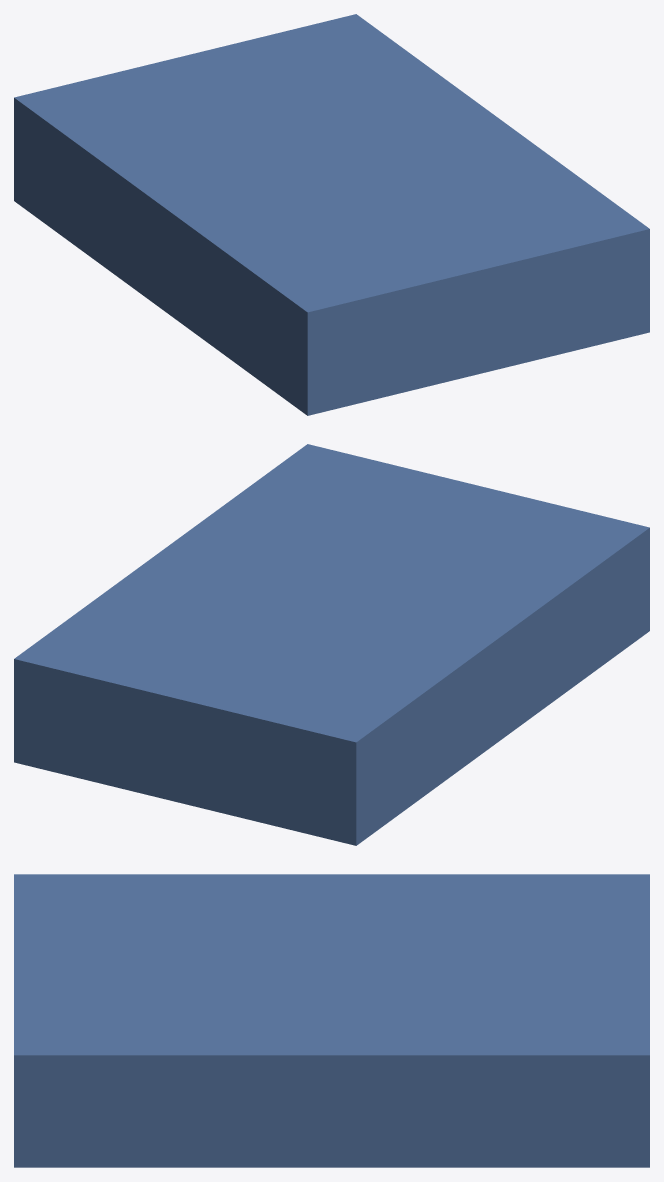
File: quad_25.glb
3 renders of one model, top to bottom at view 1: azimuth 30°, elevation 25°; view 2: azimuth 150°, elevation 25°; view 3: azimuth 270°, elevation 25°, orthographic. The views are drawn at different scales.
Parts seen in each view (by area): view 1: quad_25; view 2: quad_25; view 3: quad_25.
Part boxes in pixels (<box>): quad_25: <box>14,14,649,415</box>; quad_25: <box>14,444,649,845</box>; quad_25: <box>14,874,649,1167</box>.
Size of the model in its own units: 0.577 by 0.1667 by 0.8571.
